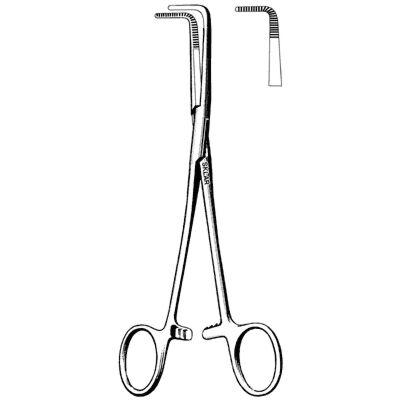Rectangle Cholecystectomy Forceps: (116, 4, 282, 397)
